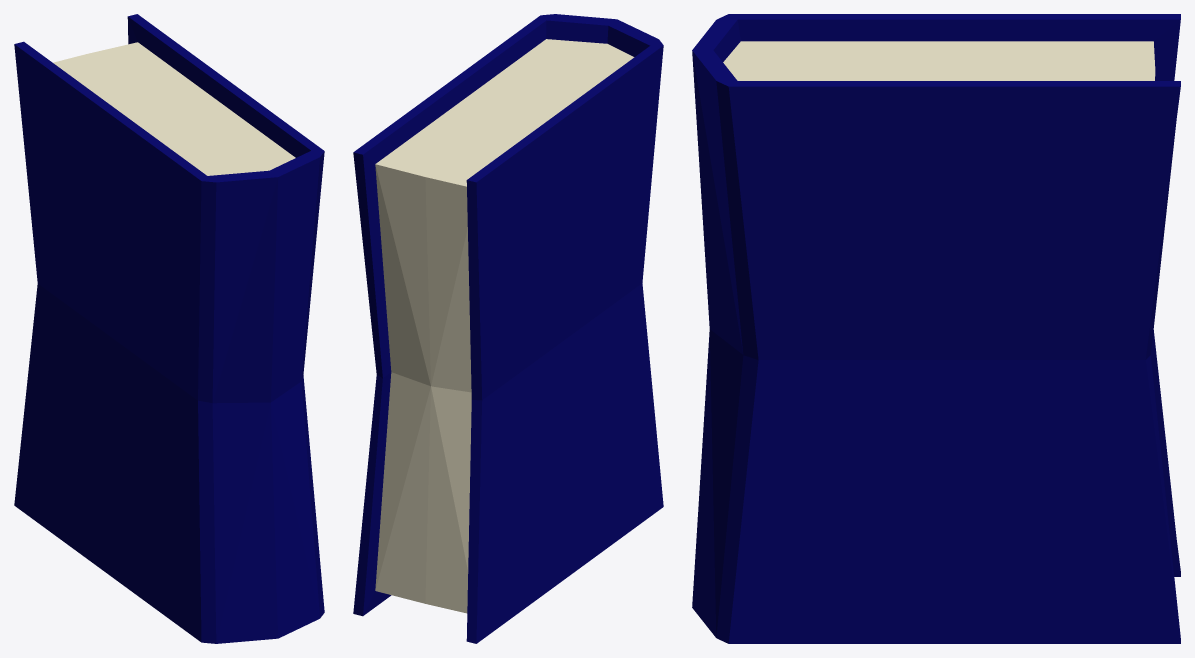
The model's file is book_b.fbx.
The picture shows the model from 3 angles, left to right: view 1: azimuth 30°, elevation 25°; view 2: azimuth 150°, elevation 25°; view 3: azimuth 270°, elevation 25°; orthographic projection. The views are drawn at different scales.
Parts seen in each view (by area): view 1: Box001; view 2: Box001; view 3: Box001.
Boxes of the visible parts, left/top/right/bottom form: Box001: left=14, top=14, right=324, bottom=643; Box001: left=353, top=14, right=663, bottom=643; Box001: left=692, top=14, right=1180, bottom=643.
Bounding box in the file's own units: 19 × 68 × 54.04.
